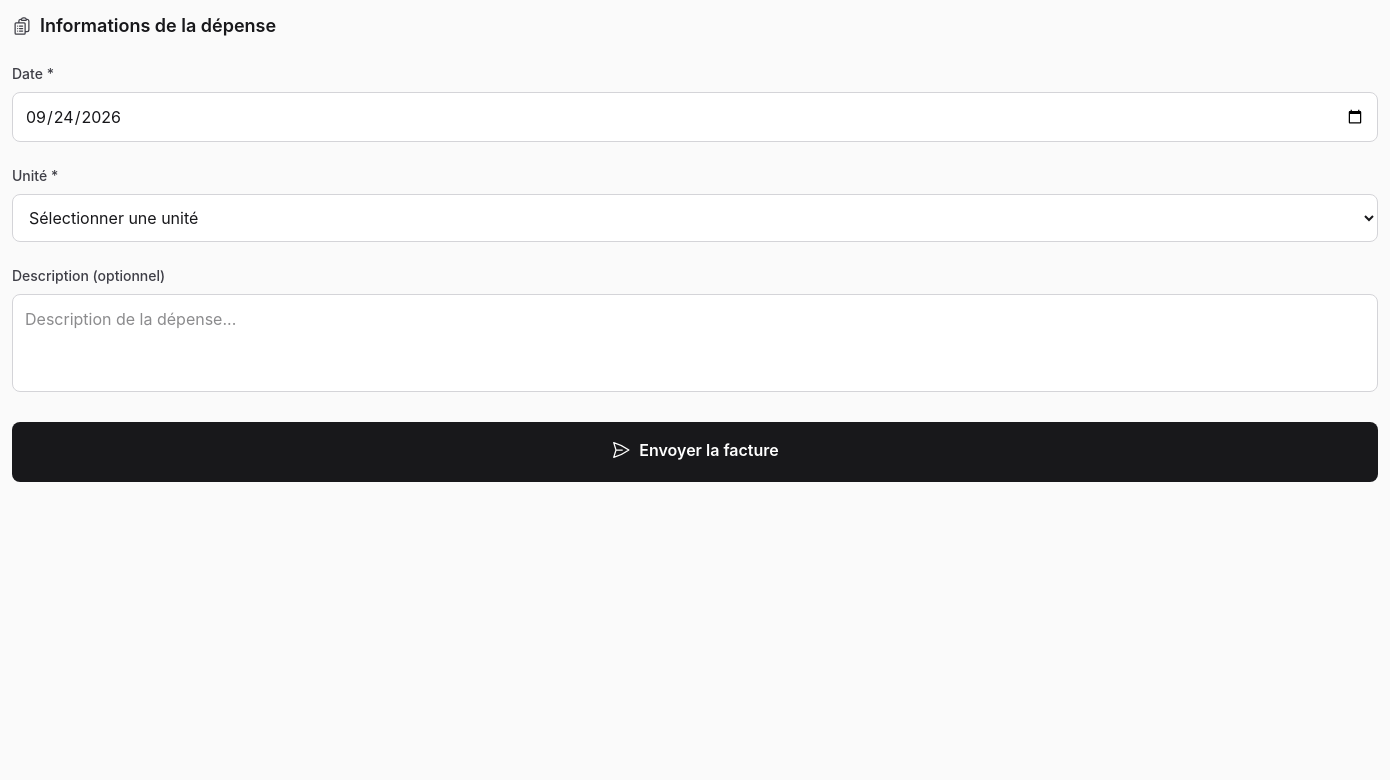
FormulaireDepense › signale les champs obligatoires au clic sur envoyer
The image size is (1390, 780).
Click the button "Envoyer la facture".
click(695, 452)  # box 12,422 -> 1378,482
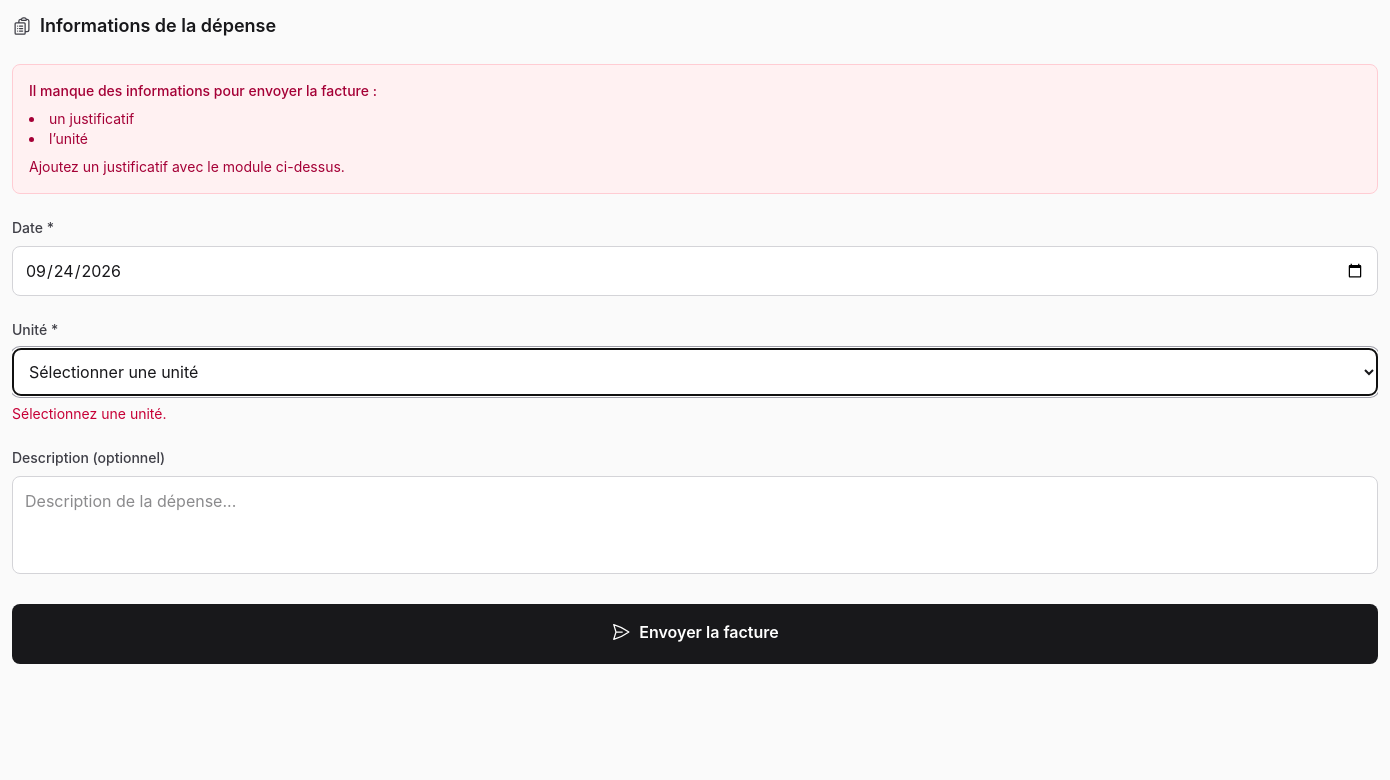
expect the message shows "Il manque des informations pour envoyer la facture": met, box 29,82 -> 377,99
expect the message shows "un justificatif": met, box 49,110 -> 134,127
expect the text "Sélectionnez une unité." is shown: met, box 12,405 -> 166,422
